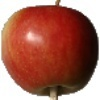apple: (2, 6, 100, 97)
